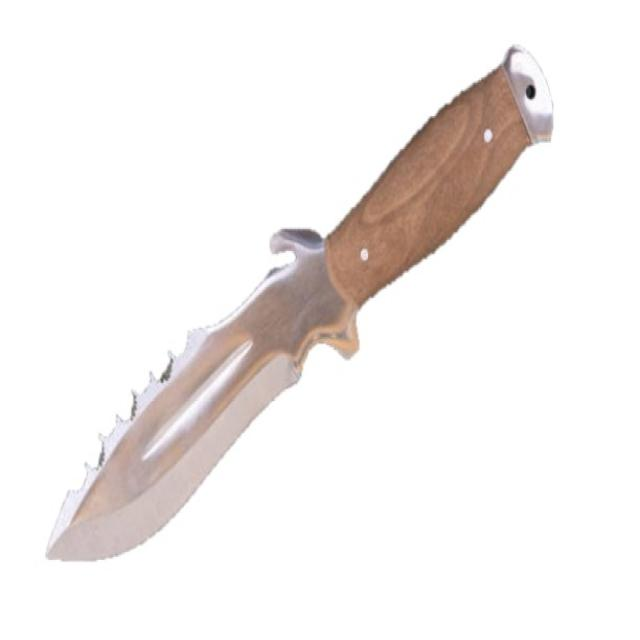knife: (45, 40, 560, 569)
